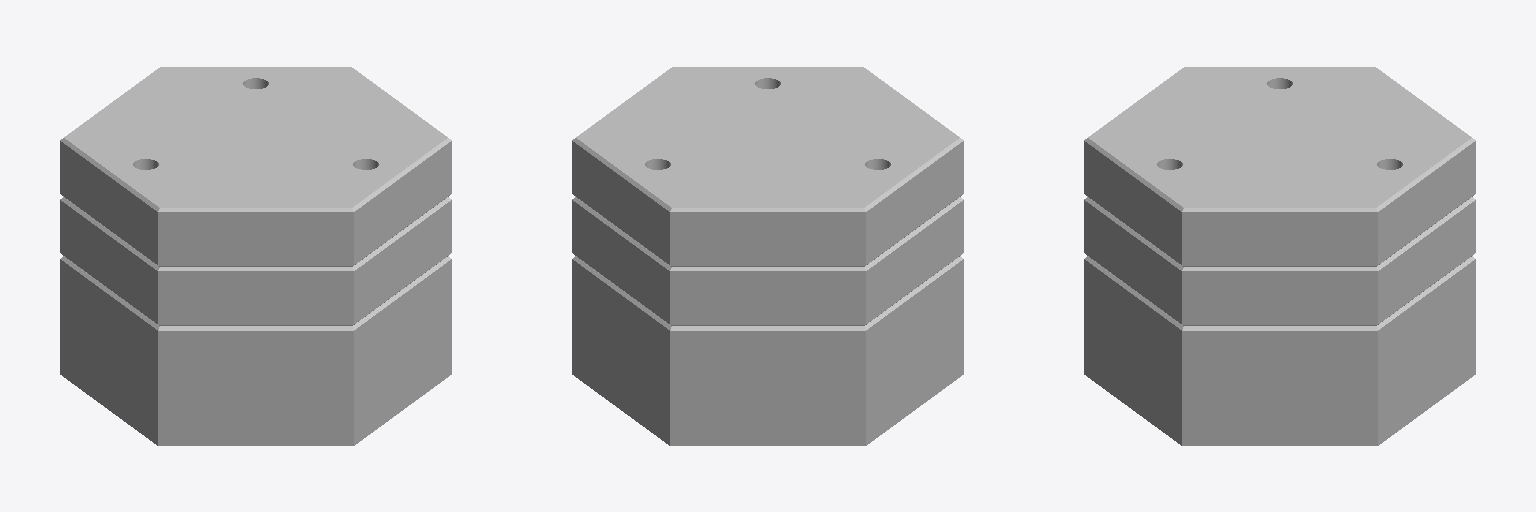
Rendered from lvl3B.obj.
The picture shows the model from 3 angles: view 1: azimuth 30°, elevation 25°; view 2: azimuth 150°, elevation 25°; view 3: azimuth 270°, elevation 25°; orthographic projection.
Visible parts, largest first — view 1: Lvl3B-3_(Mono-NoMags); view 2: Lvl3B-3_(Mono-NoMags); view 3: Lvl3B-3_(Mono-NoMags).
Boxes of the visible parts, x1,y1,x2,y2 form: Lvl3B-3_(Mono-NoMags): [60, 67, 451, 445]; Lvl3B-3_(Mono-NoMags): [572, 67, 963, 445]; Lvl3B-3_(Mono-NoMags): [1084, 67, 1475, 445].
Bounding box in the file's own units: 3.13 × 2.41 × 3.62.